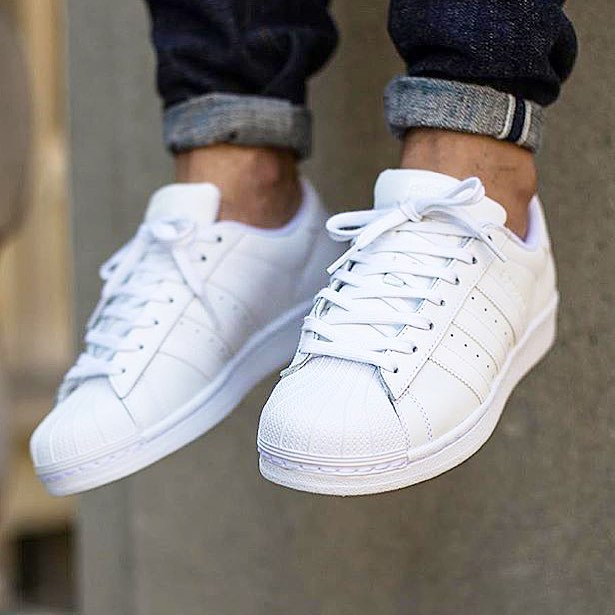sneaker: (226, 100, 586, 513), (1, 121, 365, 516)
